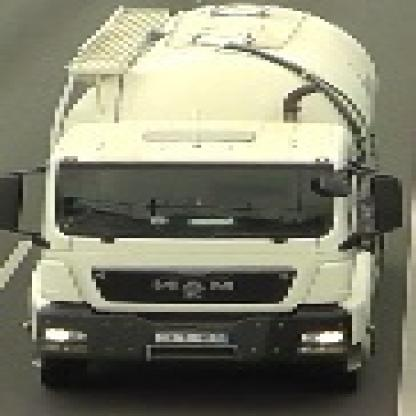truck: (1, 1, 399, 390)
